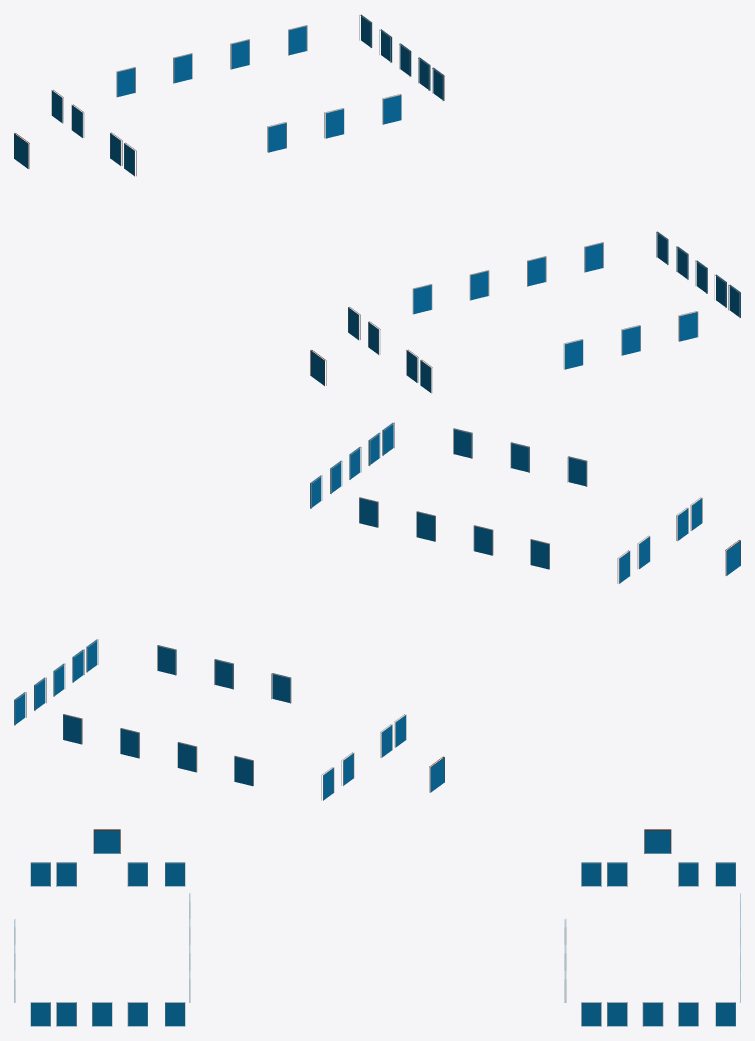
Rendered from Atruim_Central_Distributed_Level_1_IfcDoor.dae.
3 views of the same model, one above another, from view 1: azimuth 30°, elevation 25°; view 2: azimuth 150°, elevation 25°; view 3: azimuth 270°, elevation 25° (orthographic). The views are drawn at different scales.
Visible parts, largest first — view 1: no part large enough to name; view 2: no part large enough to name; view 3: 3PvYJhk3D2U9BQlYj7RRlt, 06JCLd16PC69oghQ9RRAhH, 2OowQG8pn2TQ9anPywzhCj, 3PvYJhk3D2U9BQlYj7RRfW, 3PvYJhk3D2U9BQlYj7RRfX, 3PvYJhk3D2U9BQlYj7RRfc, 3PvYJhk3D2U9BQlYj7RRfd, 3PvYJhk3D2U9BQlYj7RRfa, 2OowQG8pn2TQ9anPywzhFS, 2OowQG8pn2TQ9anPywzhC2, 2OowQG8pn2TQ9anPywzhDp, 2OowQG8pn2TQ9anPywzhBQ (+8 smaller).
Part boxes in pixels (<box>): 3PvYJhk3D2U9BQlYj7RRlt: <box>93,829,120,853</box>; 06JCLd16PC69oghQ9RRAhH: <box>644,829,671,853</box>; 2OowQG8pn2TQ9anPywzhCj: <box>642,1002,663,1026</box>; 3PvYJhk3D2U9BQlYj7RRfW: <box>56,1002,76,1026</box>; 3PvYJhk3D2U9BQlYj7RRfX: <box>92,1002,112,1026</box>; 3PvYJhk3D2U9BQlYj7RRfc: <box>127,1002,147,1026</box>; 3PvYJhk3D2U9BQlYj7RRfd: <box>165,1002,185,1026</box>; 3PvYJhk3D2U9BQlYj7RRfa: <box>30,862,50,886</box>; 2OowQG8pn2TQ9anPywzhFS: <box>607,1002,627,1026</box>; 2OowQG8pn2TQ9anPywzhC2: <box>678,1002,698,1026</box>; 2OowQG8pn2TQ9anPywzhDp: <box>715,1002,735,1026</box>; 2OowQG8pn2TQ9anPywzhBQ: <box>581,862,601,886</box>.
Bounding box in the file's own units: 63.25 × 112 × 4.08.
